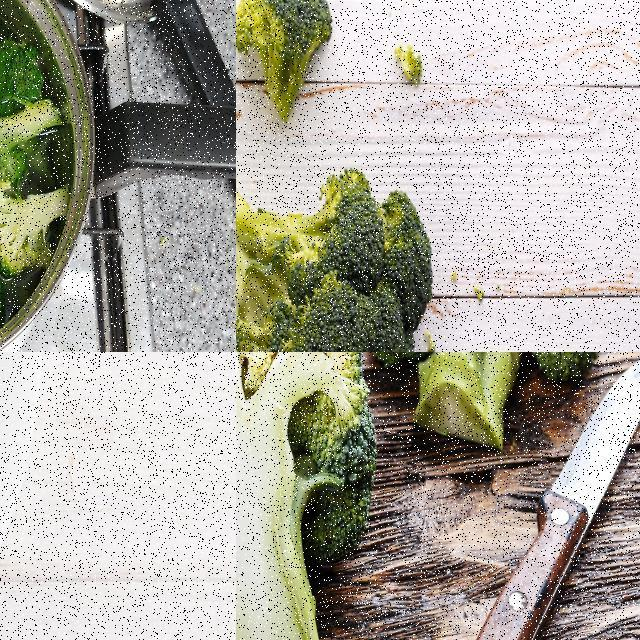broccoli: (236, 86, 440, 351), (236, 352, 380, 639), (353, 352, 626, 462), (236, 0, 337, 139), (0, 175, 70, 275), (0, 89, 60, 191)
